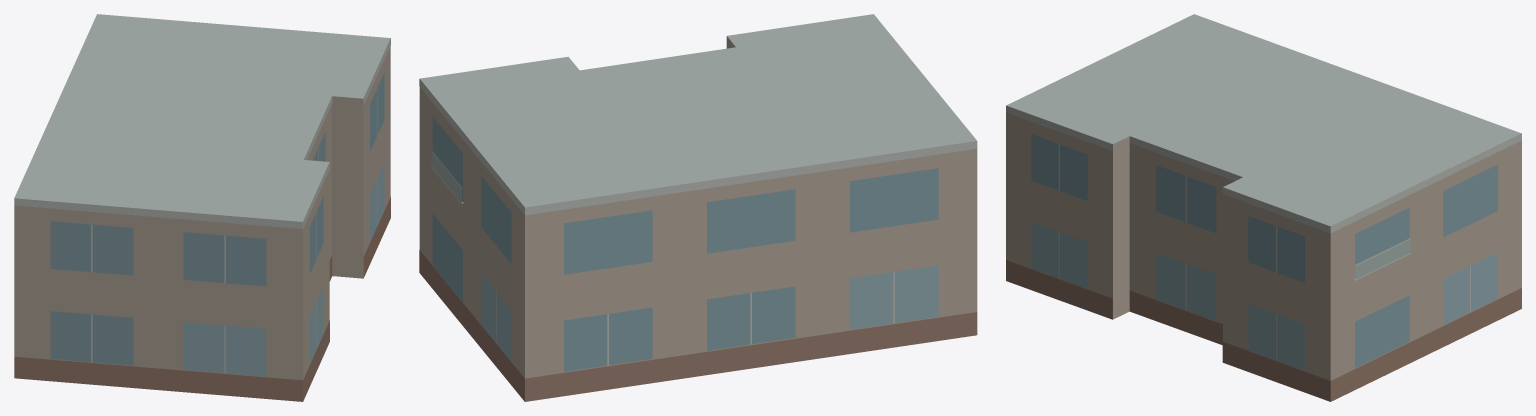
File: survey-upis-32722089.glb
3 renders of one model, left to right at view 1: azimuth 30°, elevation 25°; view 2: azimuth 150°, elevation 25°; view 3: azimuth 270°, elevation 25°, orthographic. The views are drawn at different scales.
Parts seen in each view (by area): view 1: survey-upis-32722089.tmp; view 2: survey-upis-32722089.tmp; view 3: survey-upis-32722089.tmp.
Part boxes in pixels (bbox=[...]): survey-upis-32722089.tmp: bbox=[14, 14, 390, 401]; survey-upis-32722089.tmp: bbox=[419, 14, 977, 401]; survey-upis-32722089.tmp: bbox=[1006, 14, 1521, 401].
Bounding box in the file's own units: 15.85 × 6.1 × 16.26.
